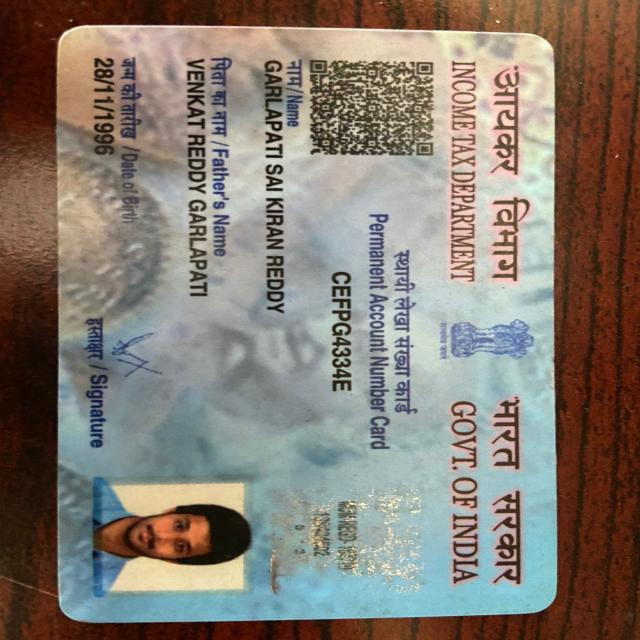pan_card: (60, 34, 547, 621)
